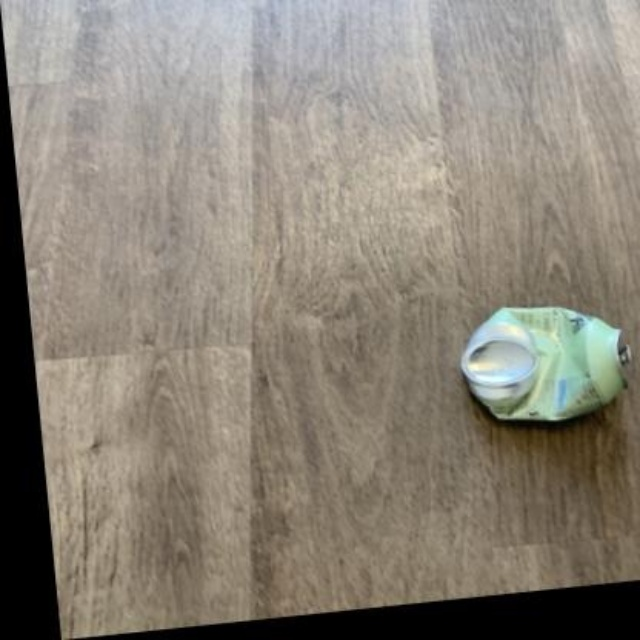trash: (462, 308, 629, 420)
